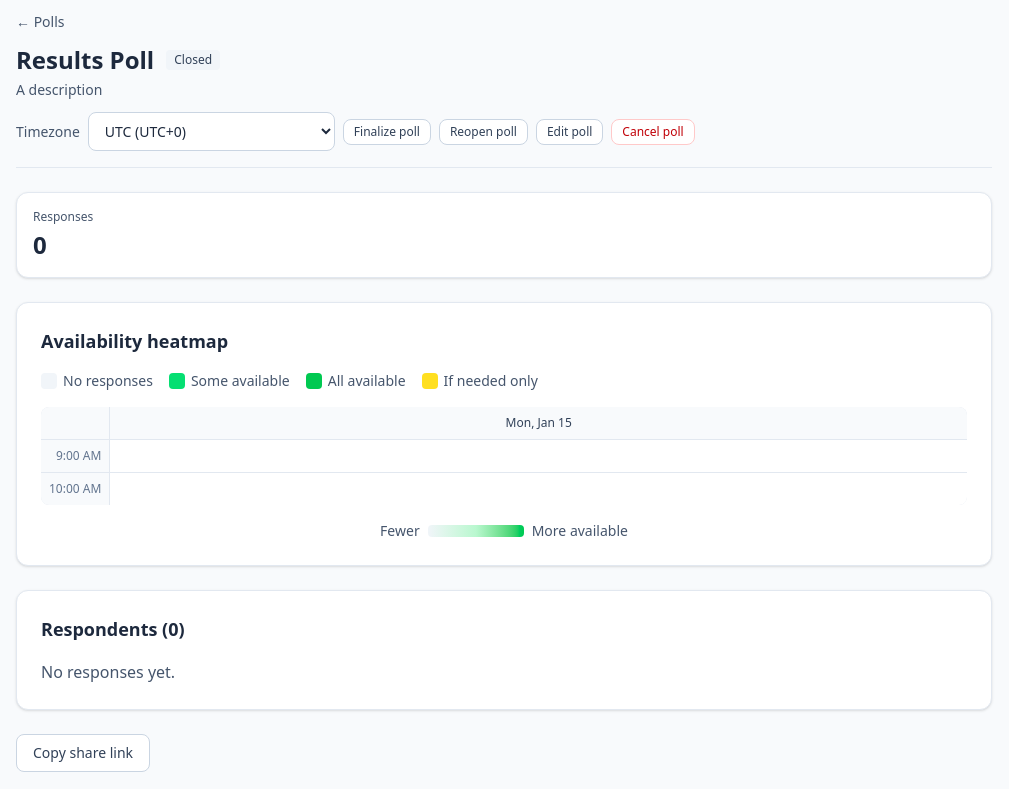
Scenario: PollResults - management actions (authenticated) › reopens a closed poll back to open
Expected: the link "Edit poll" is shown, [536,118,603,144]
Click the button "Reopen poll" at (483, 132), box [439,118,528,144]
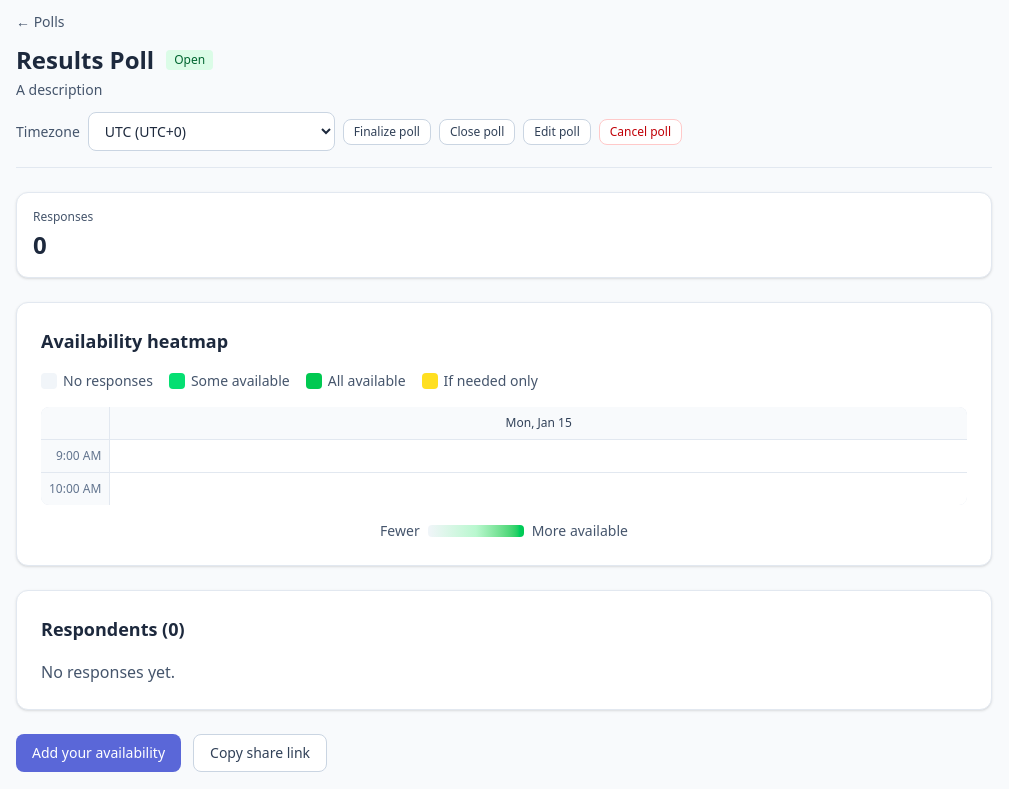
Expected: the text "open" is shown, [166,50,213,70]
